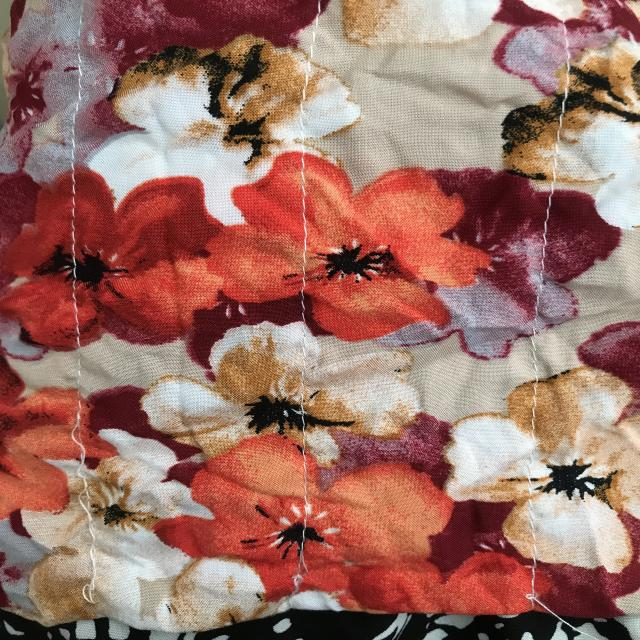good: (293, 179, 330, 305), (527, 190, 564, 272), (61, 174, 93, 267)
